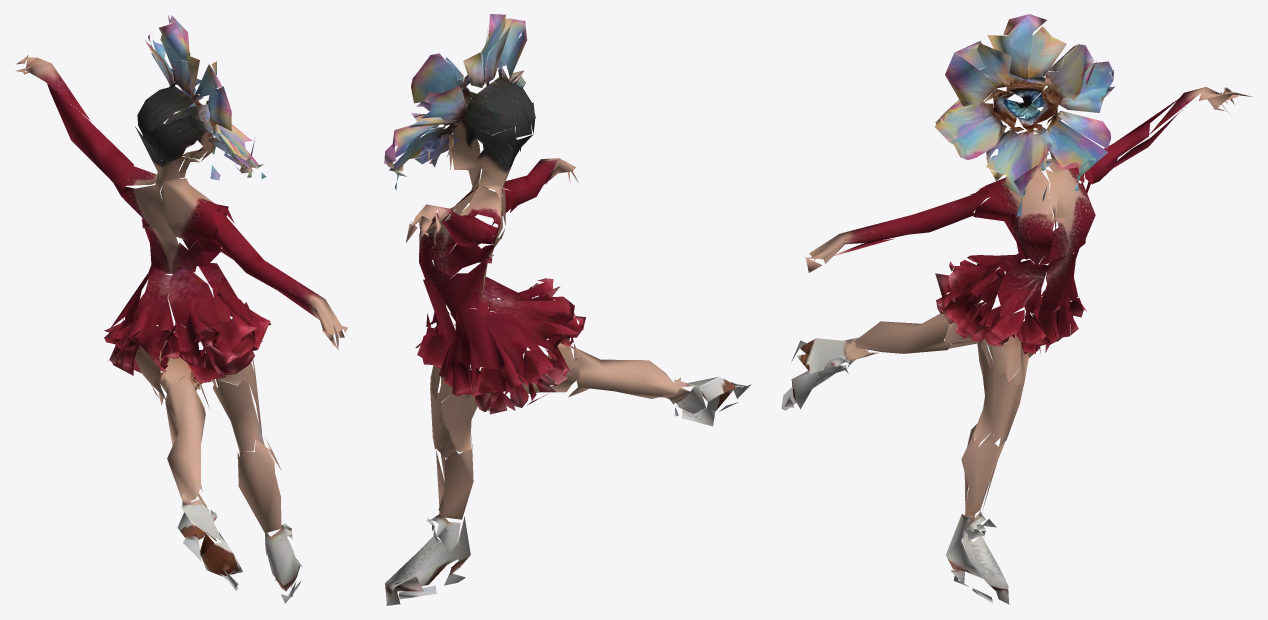
Rendered from lt_skater.glb.
3 renders of one model, left to right at view 1: azimuth 30°, elevation 25°; view 2: azimuth 150°, elevation 25°; view 3: azimuth 270°, elevation 25°, orthographic. The views are drawn at different scales.
Parts seen in each view (by area): view 1: tripo_node_6ad2d3a1-32ea-4695-8624-3e7a1664247e; view 2: tripo_node_6ad2d3a1-32ea-4695-8624-3e7a1664247e; view 3: tripo_node_6ad2d3a1-32ea-4695-8624-3e7a1664247e.
Part boxes in pixels (left/top/right/bottom): tripo_node_6ad2d3a1-32ea-4695-8624-3e7a1664247e: left=15, top=15, right=347, bottom=603; tripo_node_6ad2d3a1-32ea-4695-8624-3e7a1664247e: left=384, top=14, right=751, bottom=605; tripo_node_6ad2d3a1-32ea-4695-8624-3e7a1664247e: left=781, top=14, right=1252, bottom=604.
Bounding box in the file's own units: 0.4074 × 0.9951 × 0.7844.
Materials: 1 (1 with a texture image).
